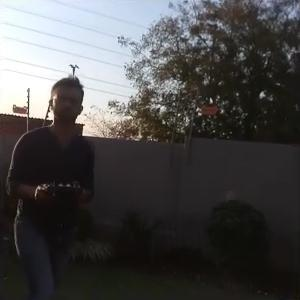follow: (2, 69, 99, 298)
